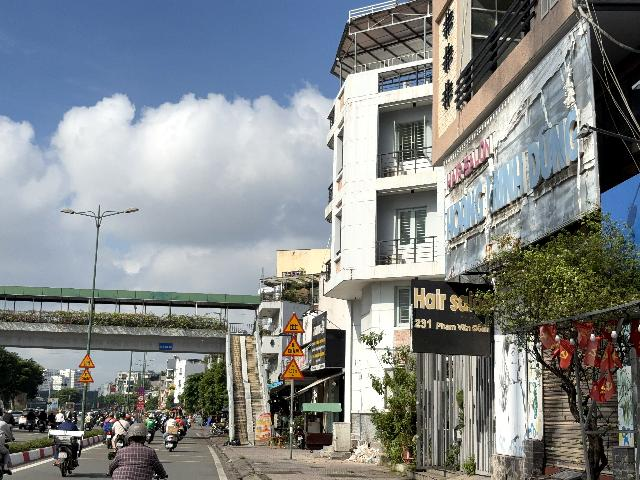chieu-cao-tinh-khong-thuc-te: (281, 358, 304, 380)
di-cham: (281, 336, 305, 356), (77, 368, 94, 383)
noi-giao-nhau-voi-duong-sat-co-rao-chan: (282, 312, 305, 333), (78, 353, 95, 368)
